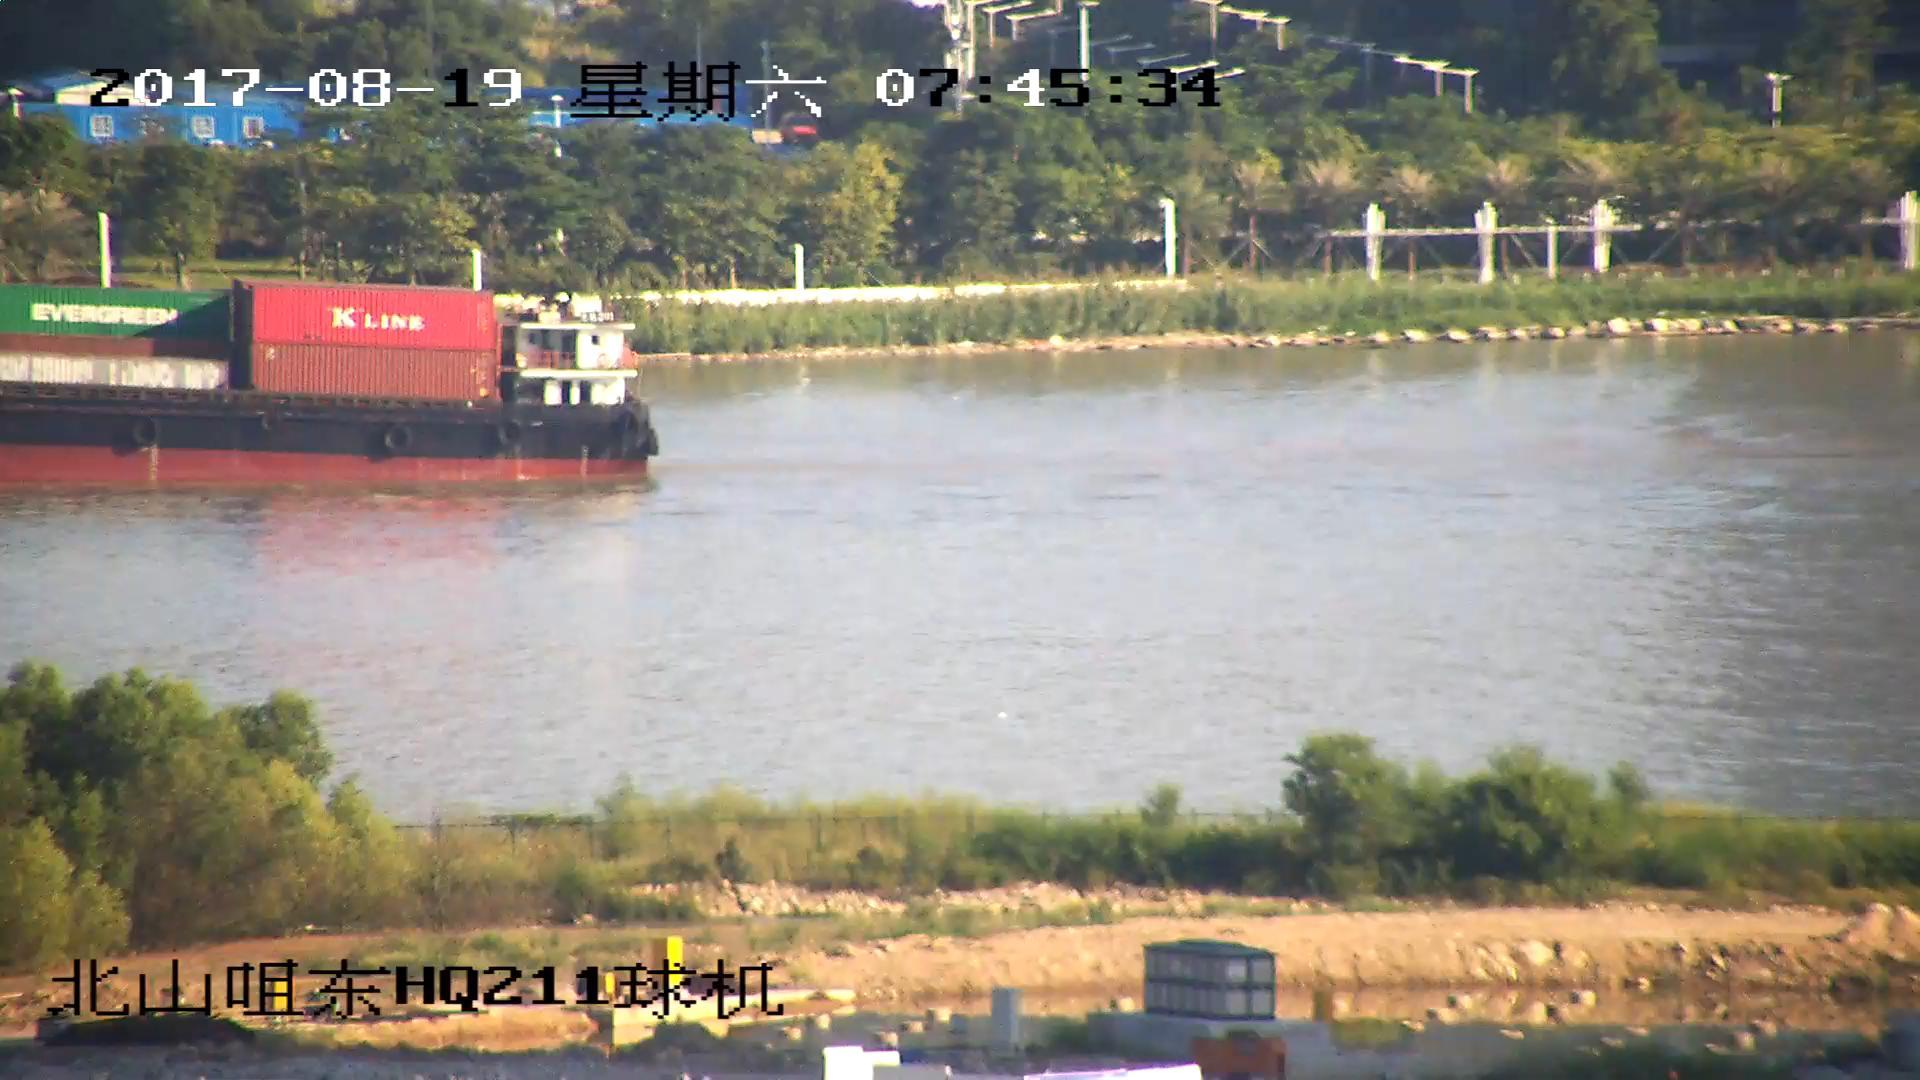Ship: (3, 272, 665, 493)
